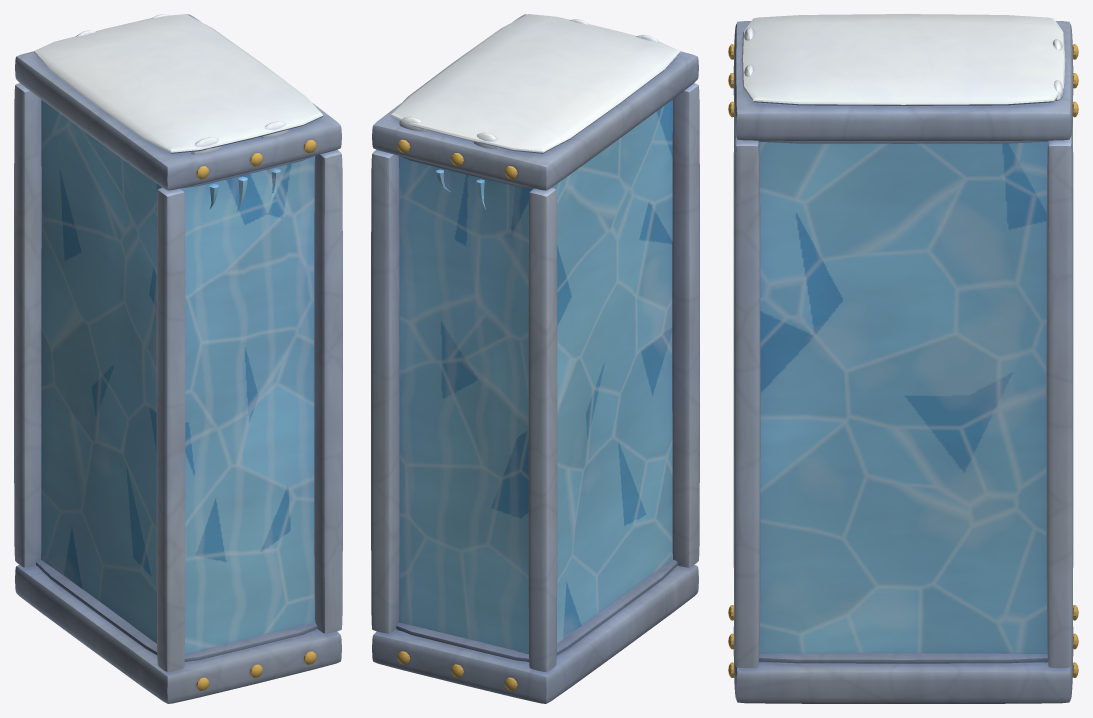
The model's file is FP_G04_IceGate.fbx.
3 renders of one model, left to right at view 1: azimuth 30°, elevation 25°; view 2: azimuth 150°, elevation 25°; view 3: azimuth 270°, elevation 25°, orthographic. The views are drawn at different scales.
Parts seen in each view (by area): view 1: Slab; view 2: Slab; view 3: Slab.
Boxes of the visible parts, <box> form: Slab: <box>14,14,342,703</box>; Slab: <box>371,14,699,703</box>; Slab: <box>728,14,1078,703</box>.
Bounding box in the file's own units: 0.9988 × 2.99 × 1.55.
